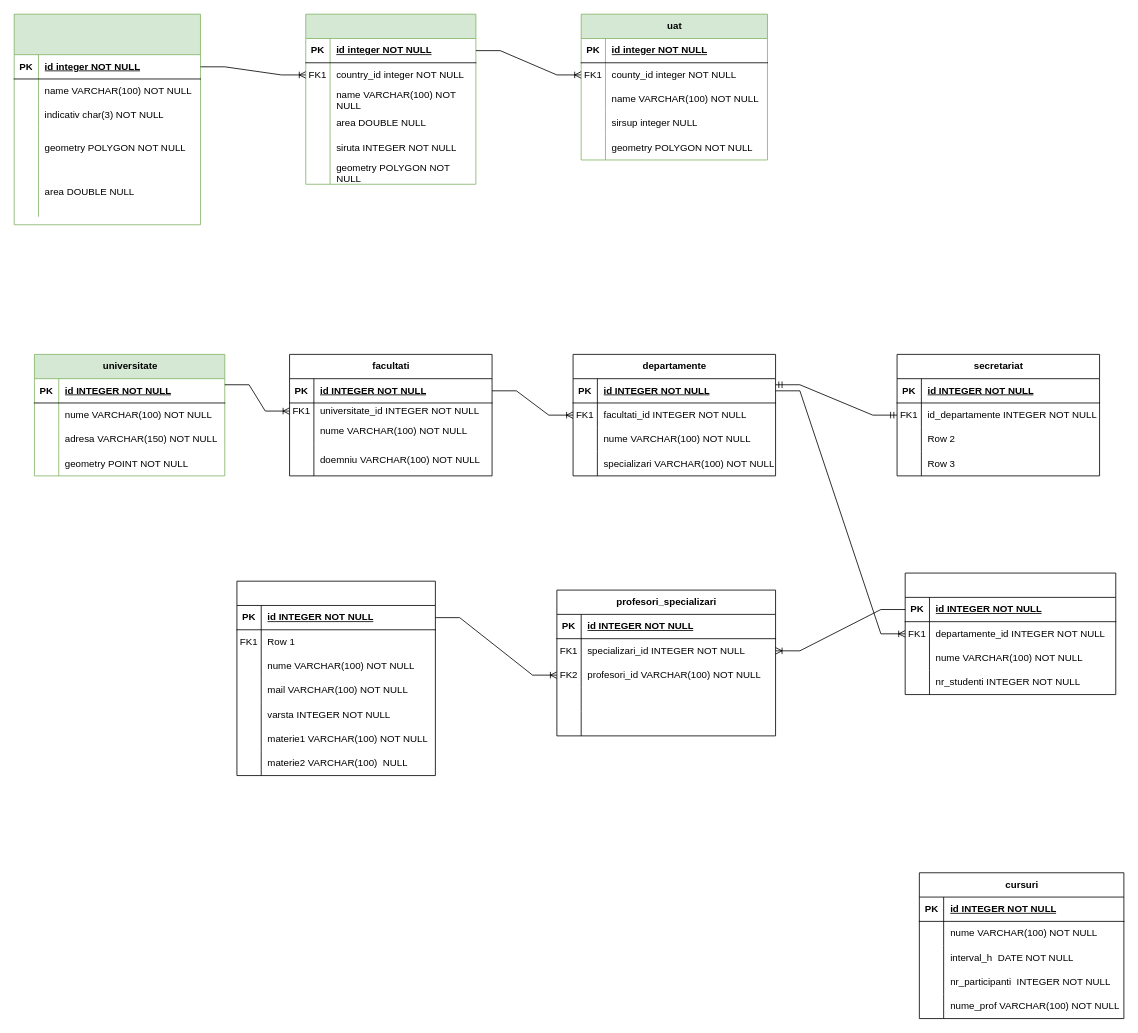
Some shapes in this 1138 by 1033 pixel diagram are drawn without their labels. The shapes that lost their labels are listed below. From the top down, each one's box as (x1, y1, x2, y2) in pixels, then its label:
(305, 13, 476, 184): county
(13, 13, 200, 225): country
(904, 572, 1116, 695): specializari
(236, 580, 435, 776): profesori
